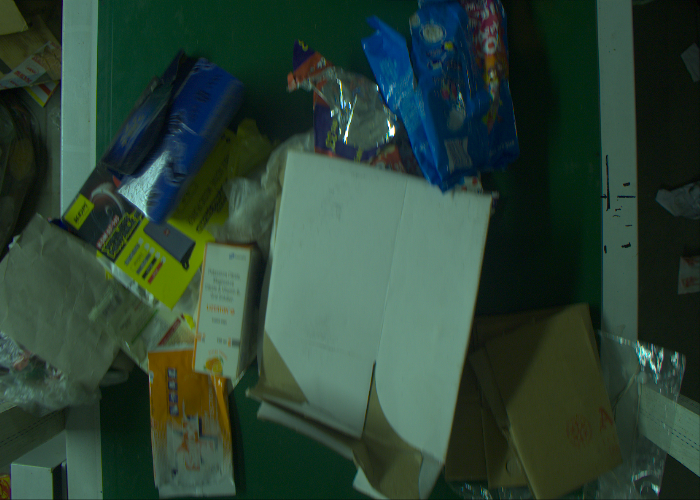cardboard: (269, 151, 480, 500), (68, 124, 231, 298), (446, 323, 602, 500), (109, 59, 229, 206), (189, 236, 255, 384)
hm_ldpe: (599, 343, 687, 500)
ldpe_wrapper: (144, 351, 232, 500)
paper: (1, 231, 125, 366)
pp_w: (414, 1, 515, 184)
